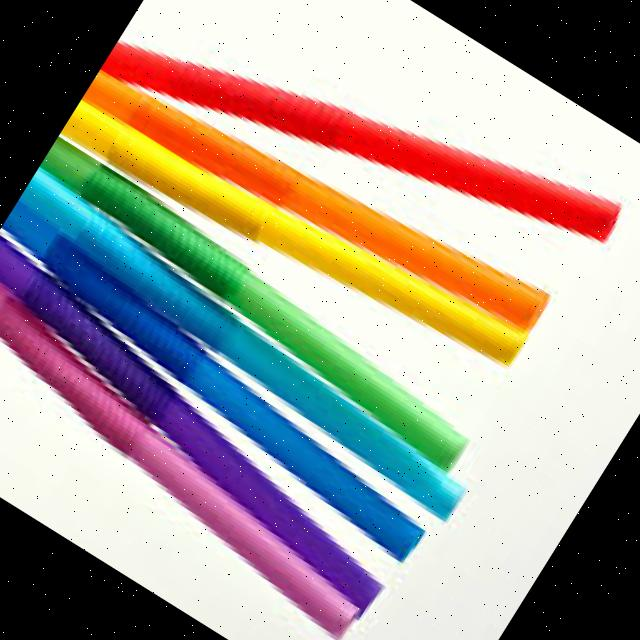plastic: (121, 0, 640, 325)
